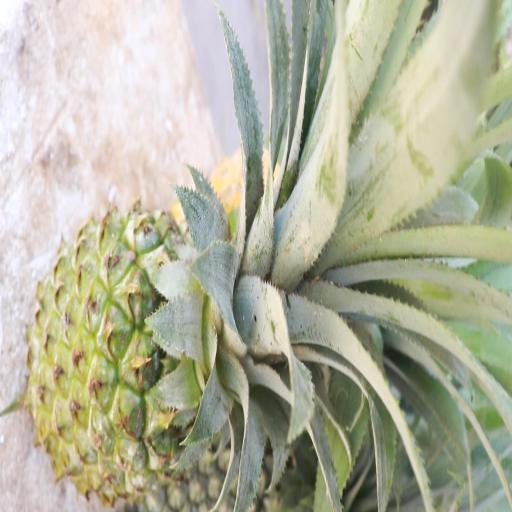------------------------------: (32, 216, 296, 508)
